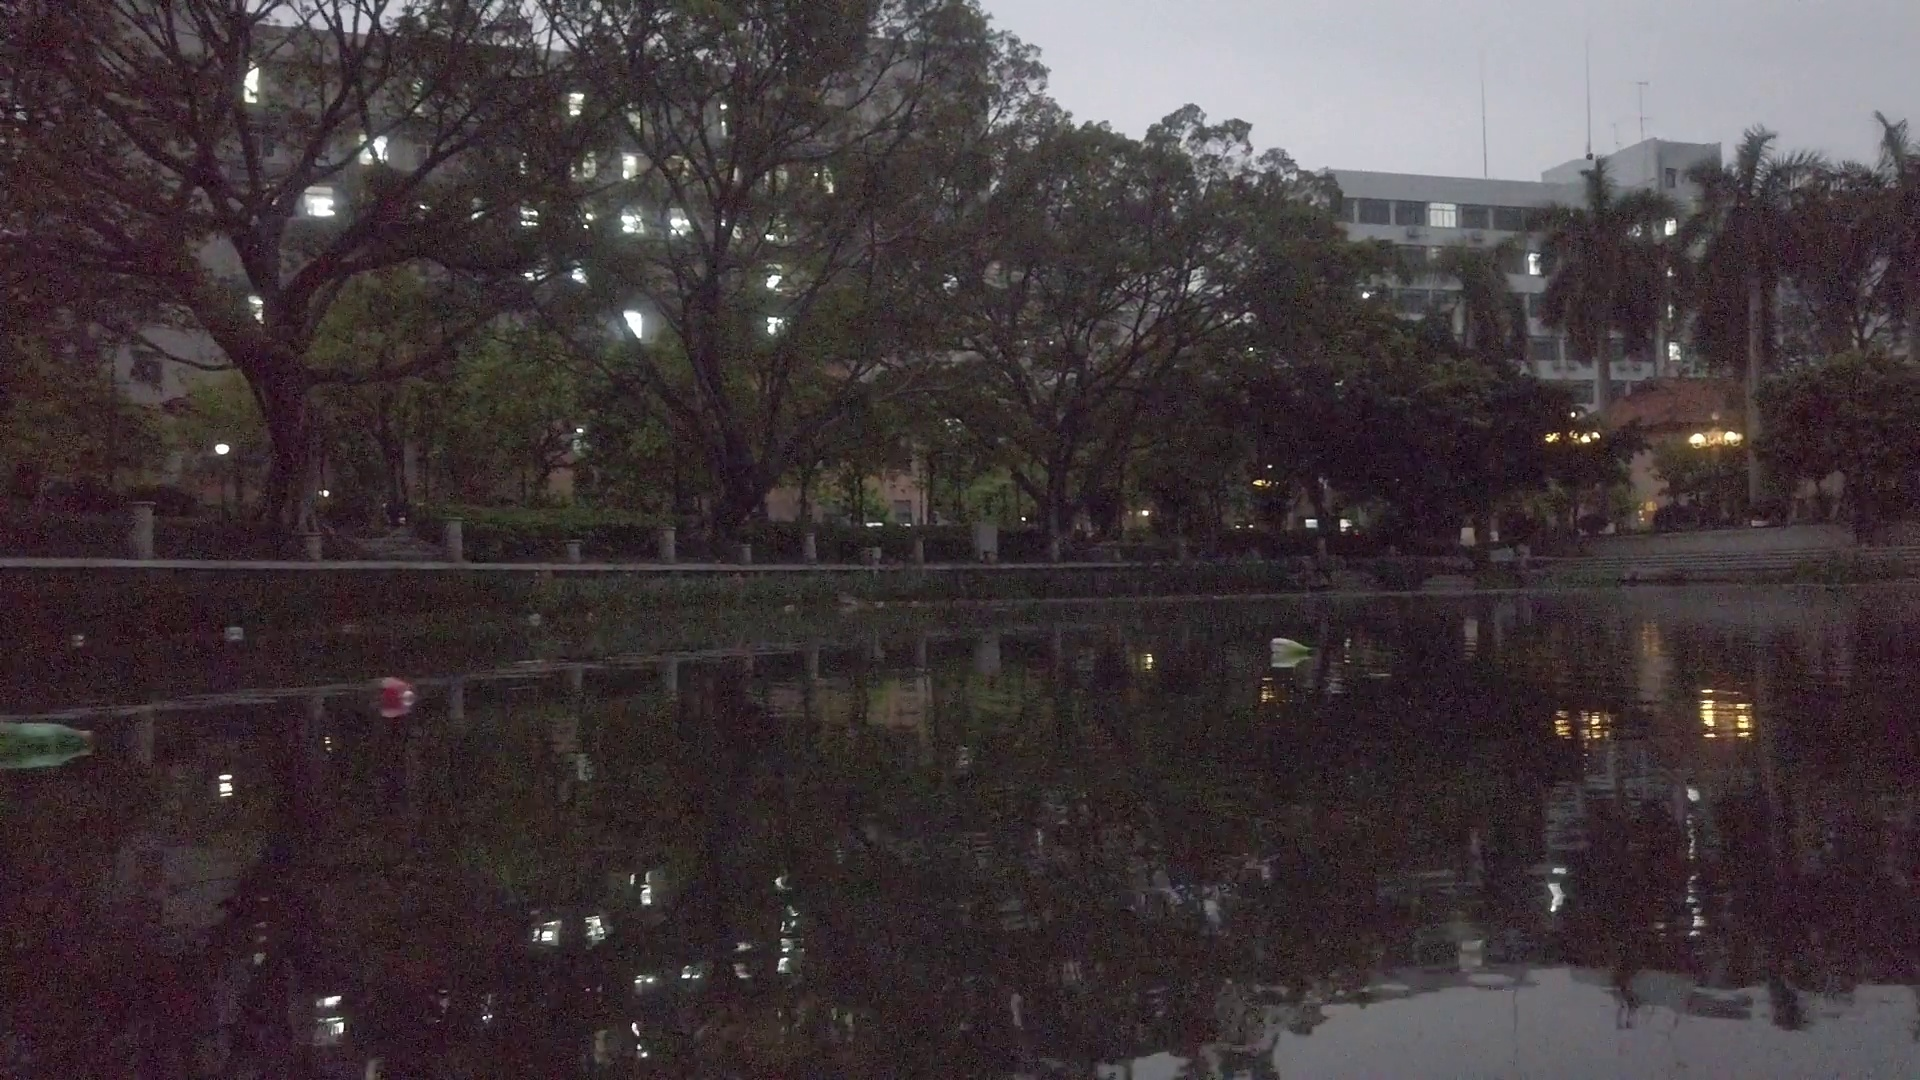bottle: (7, 716, 98, 752), (380, 676, 419, 709), (1266, 633, 1315, 659), (69, 629, 92, 649), (777, 597, 799, 616), (526, 611, 545, 624)
carton: (215, 617, 247, 647)
